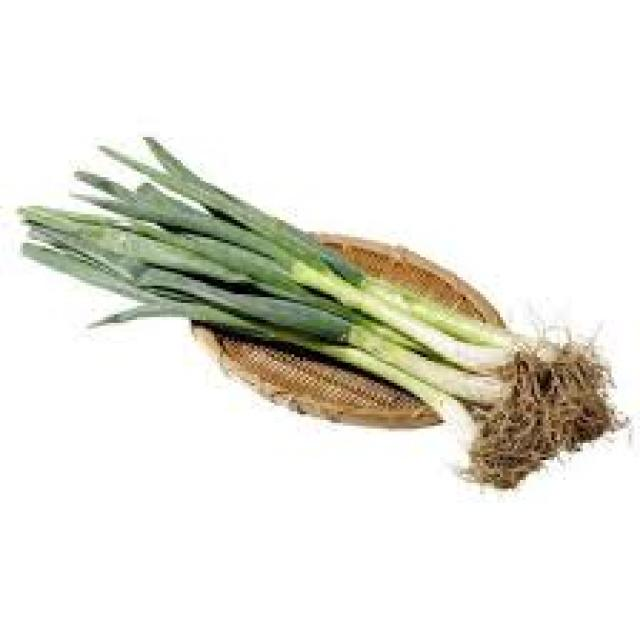spring_onion: (21, 137, 621, 490)
